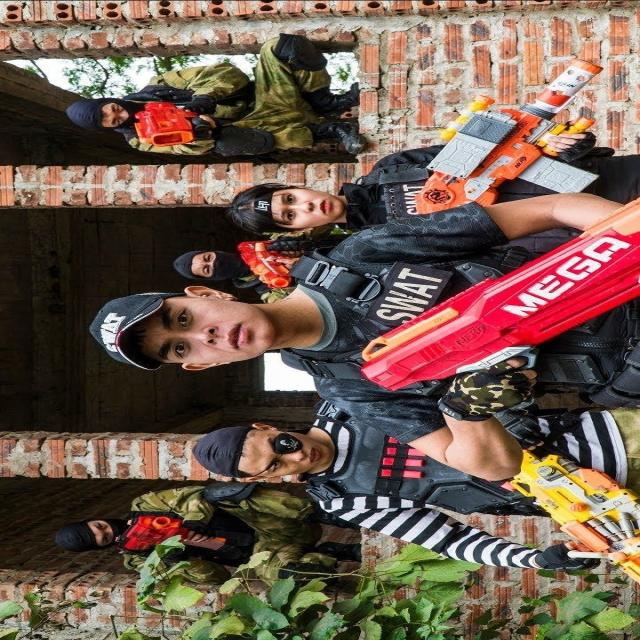Nerf gun: (353, 184, 639, 392), (402, 51, 618, 221), (481, 444, 639, 595), (110, 511, 233, 565), (115, 100, 214, 156), (224, 235, 316, 292)
